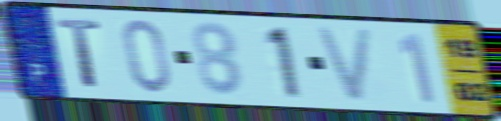0: (120, 17, 173, 95)
1: (262, 24, 304, 100), (397, 31, 437, 105)
8: (189, 20, 247, 100)
T: (54, 17, 105, 90)
V: (312, 24, 377, 105)
